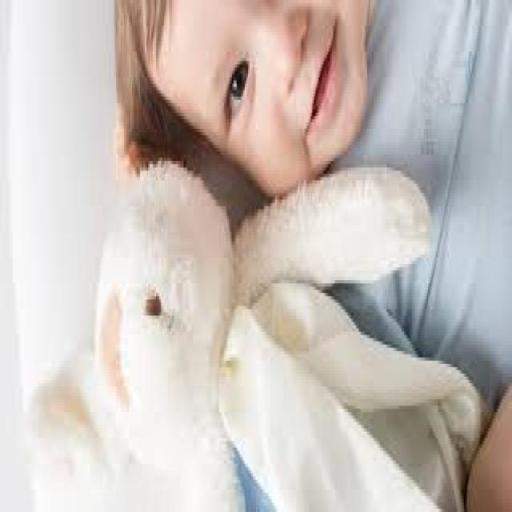baby: (112, 0, 512, 187)
